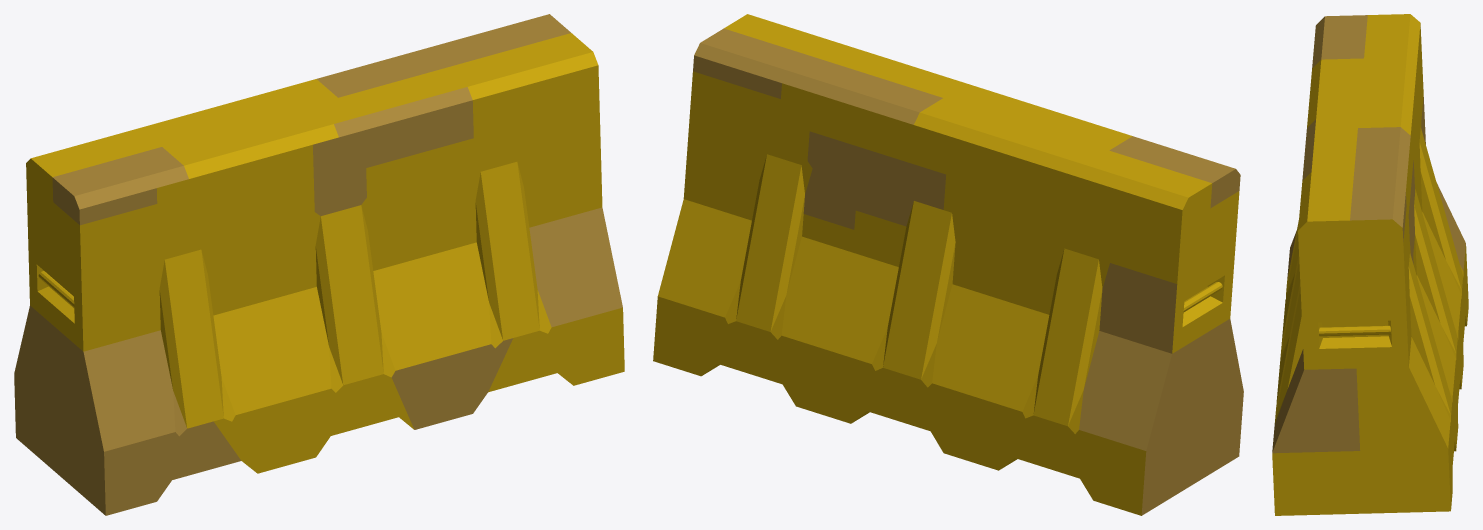
File: plasticbarrier.002_lev1.glb
3 renders of one model, left to right at view 1: azimuth 30°, elevation 25°; view 2: azimuth 150°, elevation 25°; view 3: azimuth 270°, elevation 25°, orthographic. The views are drawn at different scales.
Parts seen in each view (by area): view 1: plasticbarrier.002_lev1; view 2: plasticbarrier.002_lev1; view 3: plasticbarrier.002_lev1.
Part boxes in pixels (x1,y1,x2,y2): plasticbarrier.002_lev1: (14,14,624,515); plasticbarrier.002_lev1: (653,14,1243,515); plasticbarrier.002_lev1: (1272,14,1468,515).
Bounding box in the file's own units: 1.6 × 0.986 × 0.5553.
1 material, 1 textured.
